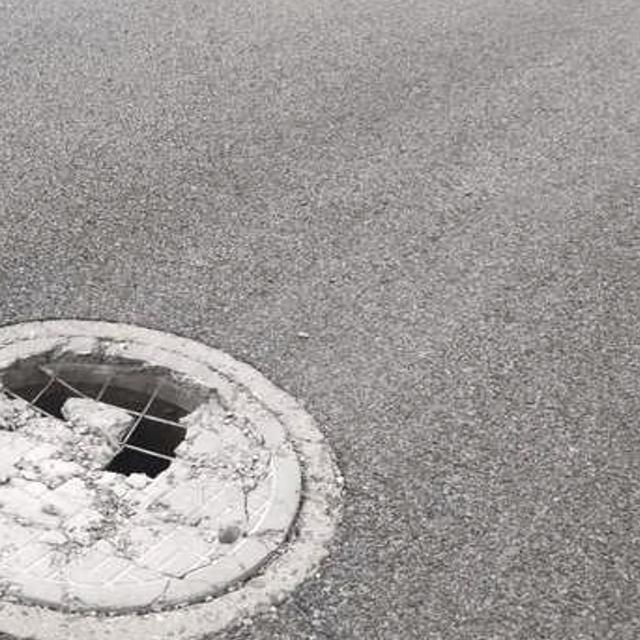broke: (0, 304, 359, 640)
